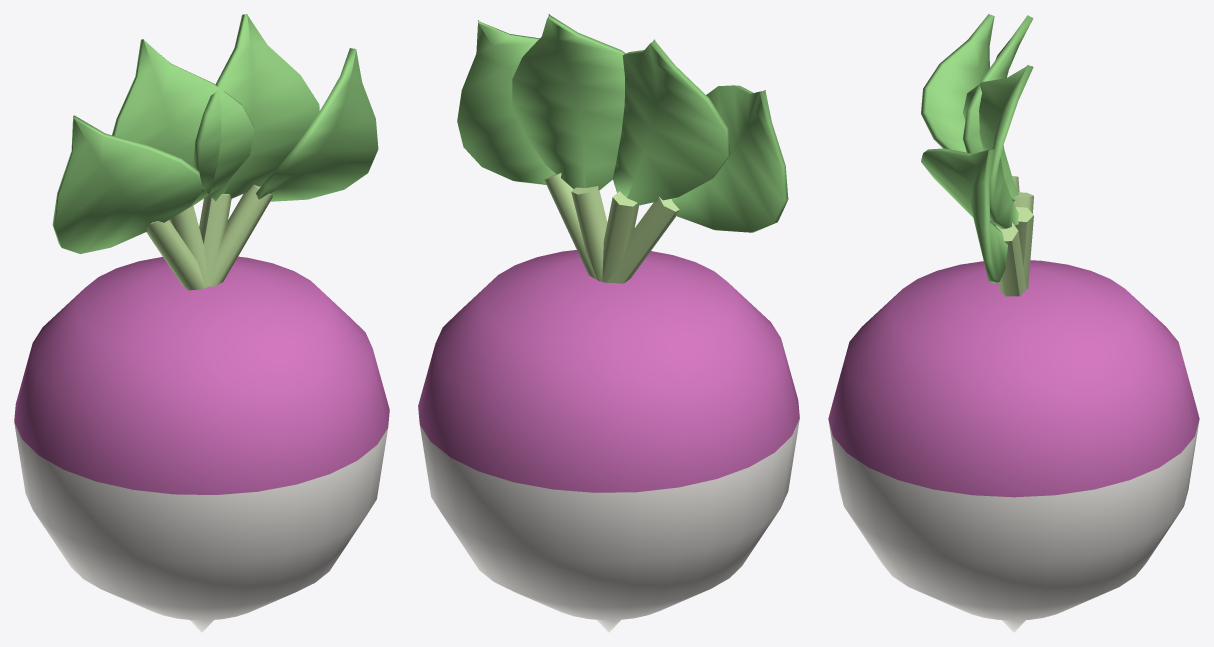
File: veg_turnip.glb
The picture shows the model from 3 angles, left to right: view 1: azimuth 30°, elevation 25°; view 2: azimuth 150°, elevation 25°; view 3: azimuth 270°, elevation 25°; orthographic projection. The views are drawn at different scales.
Visible parts, largest first — view 1: veg_turnip; view 2: veg_turnip; view 3: veg_turnip.
Boxes of the visible parts, x1,y1,x2,y2 form: veg_turnip: [14, 14, 389, 632]; veg_turnip: [418, 14, 799, 632]; veg_turnip: [828, 14, 1199, 632].
Size of the model in its own units: 0.33 by 0.5813 by 0.33.
